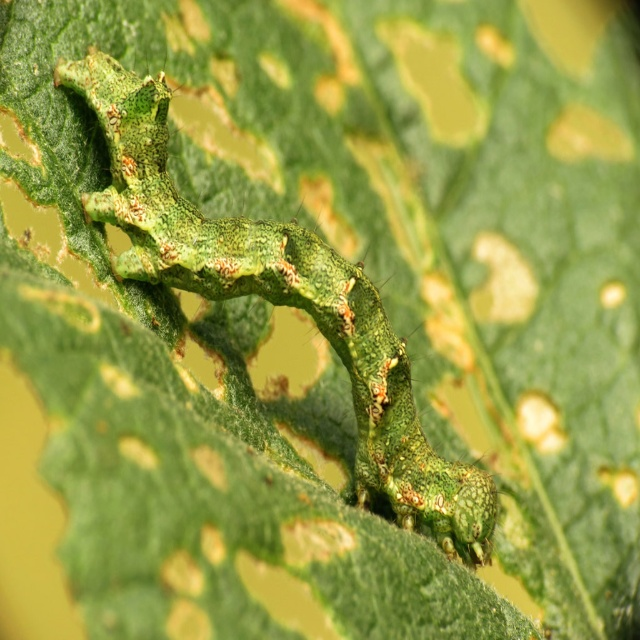Caterpillar: (49, 39, 506, 567)
